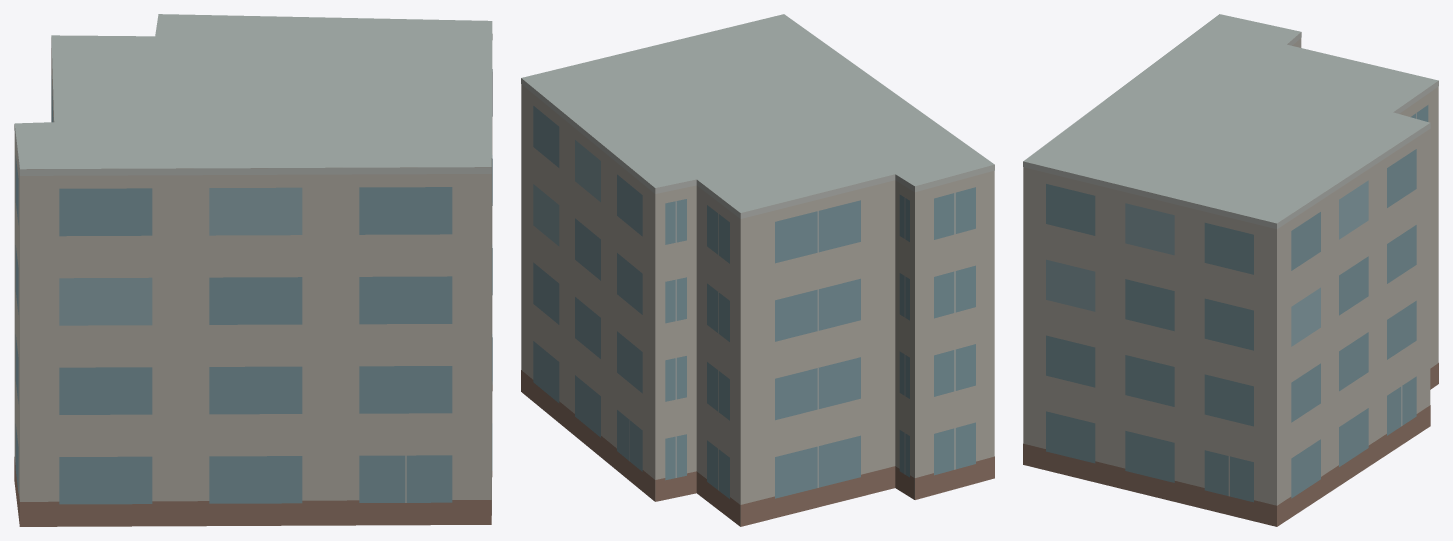
Rendered from survey-upis-32657407.glb.
3 renders of one model, left to right at view 1: azimuth 30°, elevation 25°; view 2: azimuth 150°, elevation 25°; view 3: azimuth 270°, elevation 25°, orthographic. The views are drawn at different scales.
Parts seen in each view (by area): view 1: survey-upis-32657407.tmp; view 2: survey-upis-32657407.tmp; view 3: survey-upis-32657407.tmp.
Part boxes in pixels (x1,y1,x2,y2): survey-upis-32657407.tmp: [14, 14, 492, 526]; survey-upis-32657407.tmp: [521, 14, 994, 526]; survey-upis-32657407.tmp: [1023, 14, 1438, 526].
Bounding box in the file's own units: 18.96 × 12.8 × 15.9.
